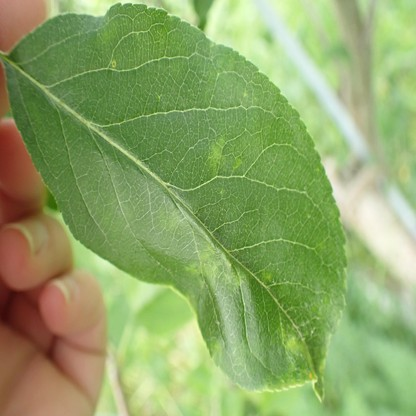rust: (309, 373, 312, 378)
scab: (186, 246, 244, 287), (208, 136, 224, 176), (158, 202, 177, 229), (285, 336, 305, 355), (209, 338, 223, 358), (262, 270, 272, 280)
